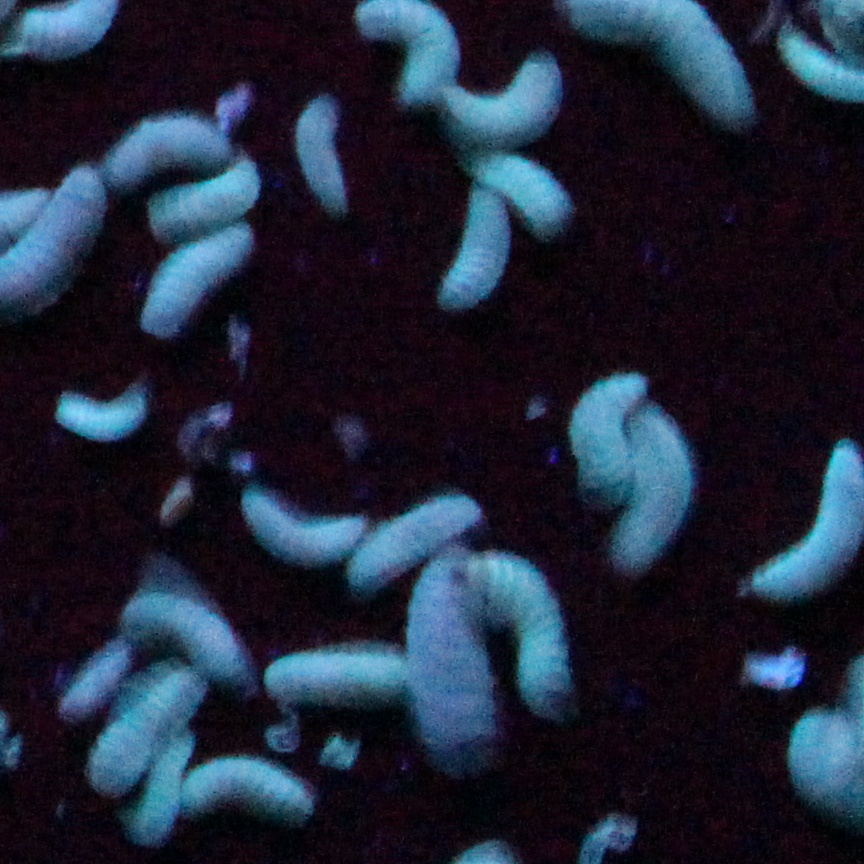larve: (400, 548, 507, 779), (92, 660, 207, 791), (348, 489, 486, 589), (127, 587, 259, 691), (138, 225, 252, 339), (619, 402, 694, 569), (244, 477, 367, 569), (567, 373, 650, 502), (150, 154, 269, 239), (444, 58, 561, 144), (265, 635, 413, 702), (180, 756, 315, 829), (121, 731, 207, 844), (109, 110, 238, 185), (294, 94, 363, 216), (469, 158, 573, 233), (446, 191, 507, 310), (59, 633, 136, 725), (52, 377, 152, 446)
